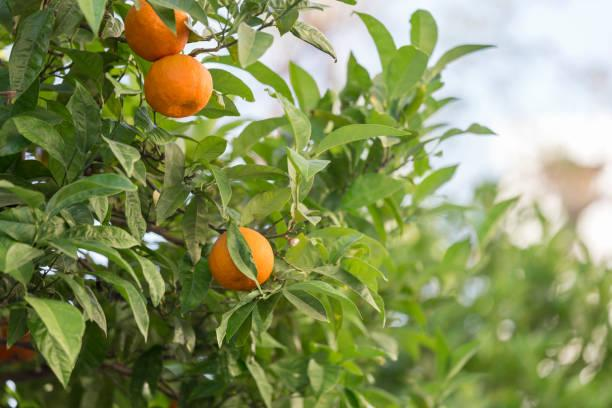orange: (198, 190, 285, 286), (138, 48, 237, 124), (91, 0, 195, 59)
